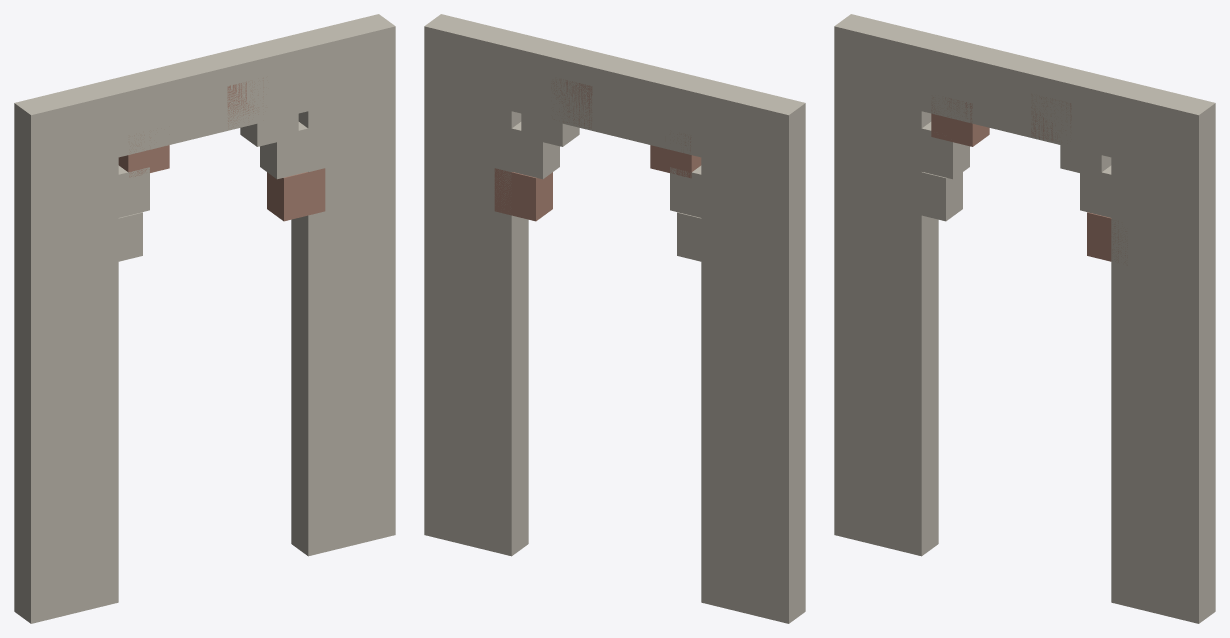
Rendered from iz3_neighborhood_kemer_geniş.glb.
The picture shows the model from 3 angles, left to right: view 1: azimuth 30°, elevation 25°; view 2: azimuth 150°, elevation 25°; view 3: azimuth 330°, elevation 25°; orthographic projection.
Parts seen in each view (by area): view 1: pier_l, pier_r, spandrel, voussoir_00, voussoir_01, voussoir_07, voussoir_08, voussoir_04, voussoir_02, voussoir_05, voussoir_06, voussoir_03; view 2: pier_l, pier_r, spandrel, voussoir_00, voussoir_01, voussoir_07, voussoir_02, voussoir_08, voussoir_06, voussoir_04, voussoir_03; view 3: pier_r, pier_l, spandrel, voussoir_08, voussoir_07, voussoir_01, voussoir_06, voussoir_00, voussoir_02, voussoir_04, voussoir_05.
Part boxes in pixels (x1,y1,x2,y2): pier_l: [14, 81, 118, 623]; pier_r: [291, 14, 395, 556]; spandrel: [102, 34, 313, 158]; voussoir_00: [267, 168, 325, 221]; voussoir_01: [260, 122, 318, 179]; voussoir_07: [108, 165, 149, 219]; voussoir_08: [101, 212, 142, 265]; voussoir_04: [192, 76, 233, 128]; voussoir_02: [240, 103, 298, 146]; voussoir_05: [158, 94, 199, 144]; voussoir_06: [118, 135, 169, 177]; voussoir_03: [227, 78, 263, 126]; pier_l: [701, 81, 805, 623]; pier_r: [424, 14, 528, 556]; spandrel: [506, 34, 717, 158]; voussoir_00: [494, 168, 552, 221]; voussoir_01: [501, 122, 559, 179]; voussoir_07: [670, 165, 709, 219]; voussoir_02: [521, 97, 579, 146]; voussoir_08: [677, 212, 717, 265]; voussoir_06: [650, 134, 701, 178]; voussoir_04: [586, 76, 626, 128]; voussoir_03: [551, 79, 592, 128]; pier_r: [1111, 81, 1215, 623]; pier_l: [834, 14, 938, 556]; spandrel: [916, 34, 1127, 158]; voussoir_08: [904, 168, 962, 221]; voussoir_07: [911, 122, 969, 179]; voussoir_01: [1080, 165, 1119, 219]; voussoir_06: [931, 97, 989, 146]; voussoir_00: [1087, 212, 1127, 265]; voussoir_02: [1060, 134, 1111, 177]; voussoir_04: [996, 76, 1036, 127]; voussoir_05: [961, 79, 1002, 128].
Size of the model in its own units: 3 by 4 by 0.24.
